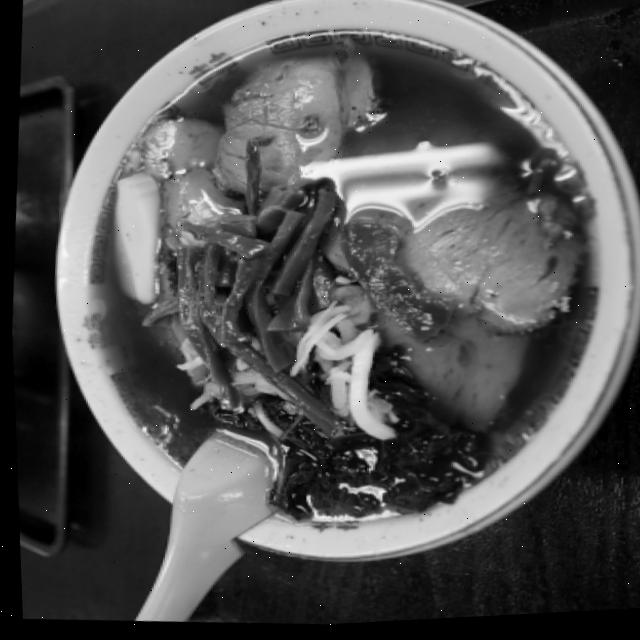面条主食: (45, 0, 624, 560)
